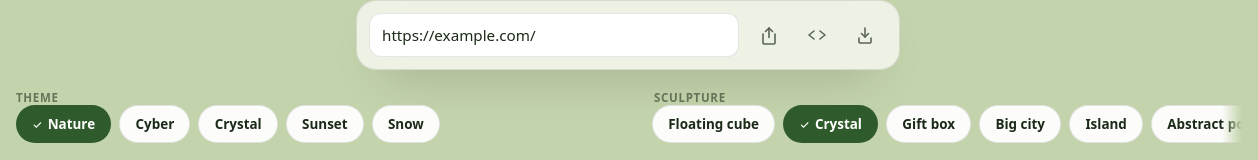
ControlPanel › confirms a copy in the icon button label
This screenshot has width=1258, height=160.
Click the button named "Share" at [769, 35], box [747, 13, 791, 57]
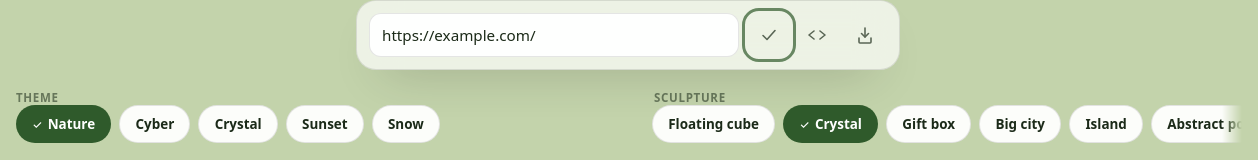
Result: the button named "Link copied" is shown at [747, 13, 791, 57]
Click the button named "Embed" at [817, 35], box [795, 13, 839, 57]
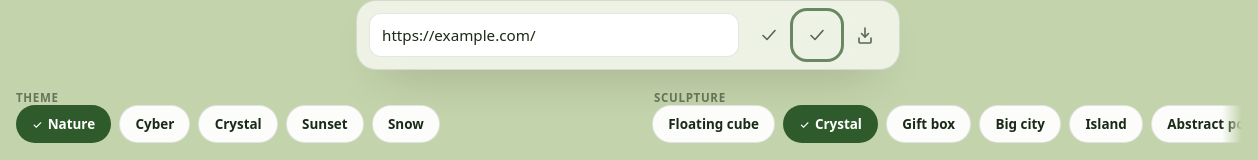
Result: the button named "Code copied" is shown at [795, 13, 839, 57]
